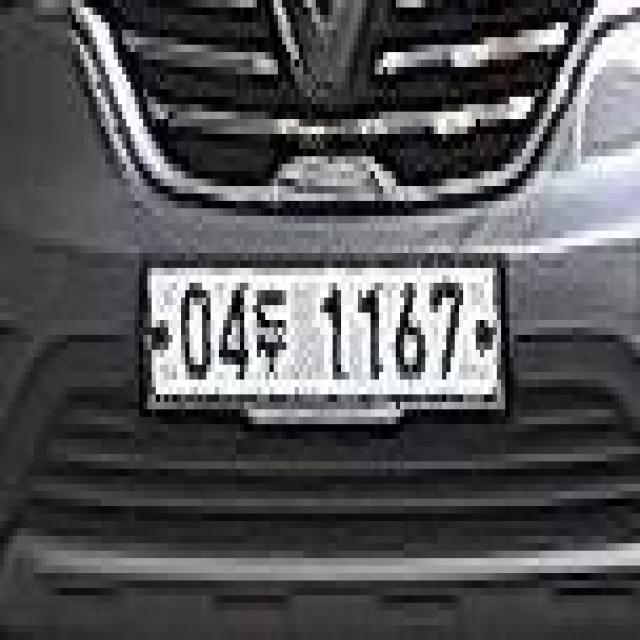illegal_plate: (139, 246, 514, 430)
